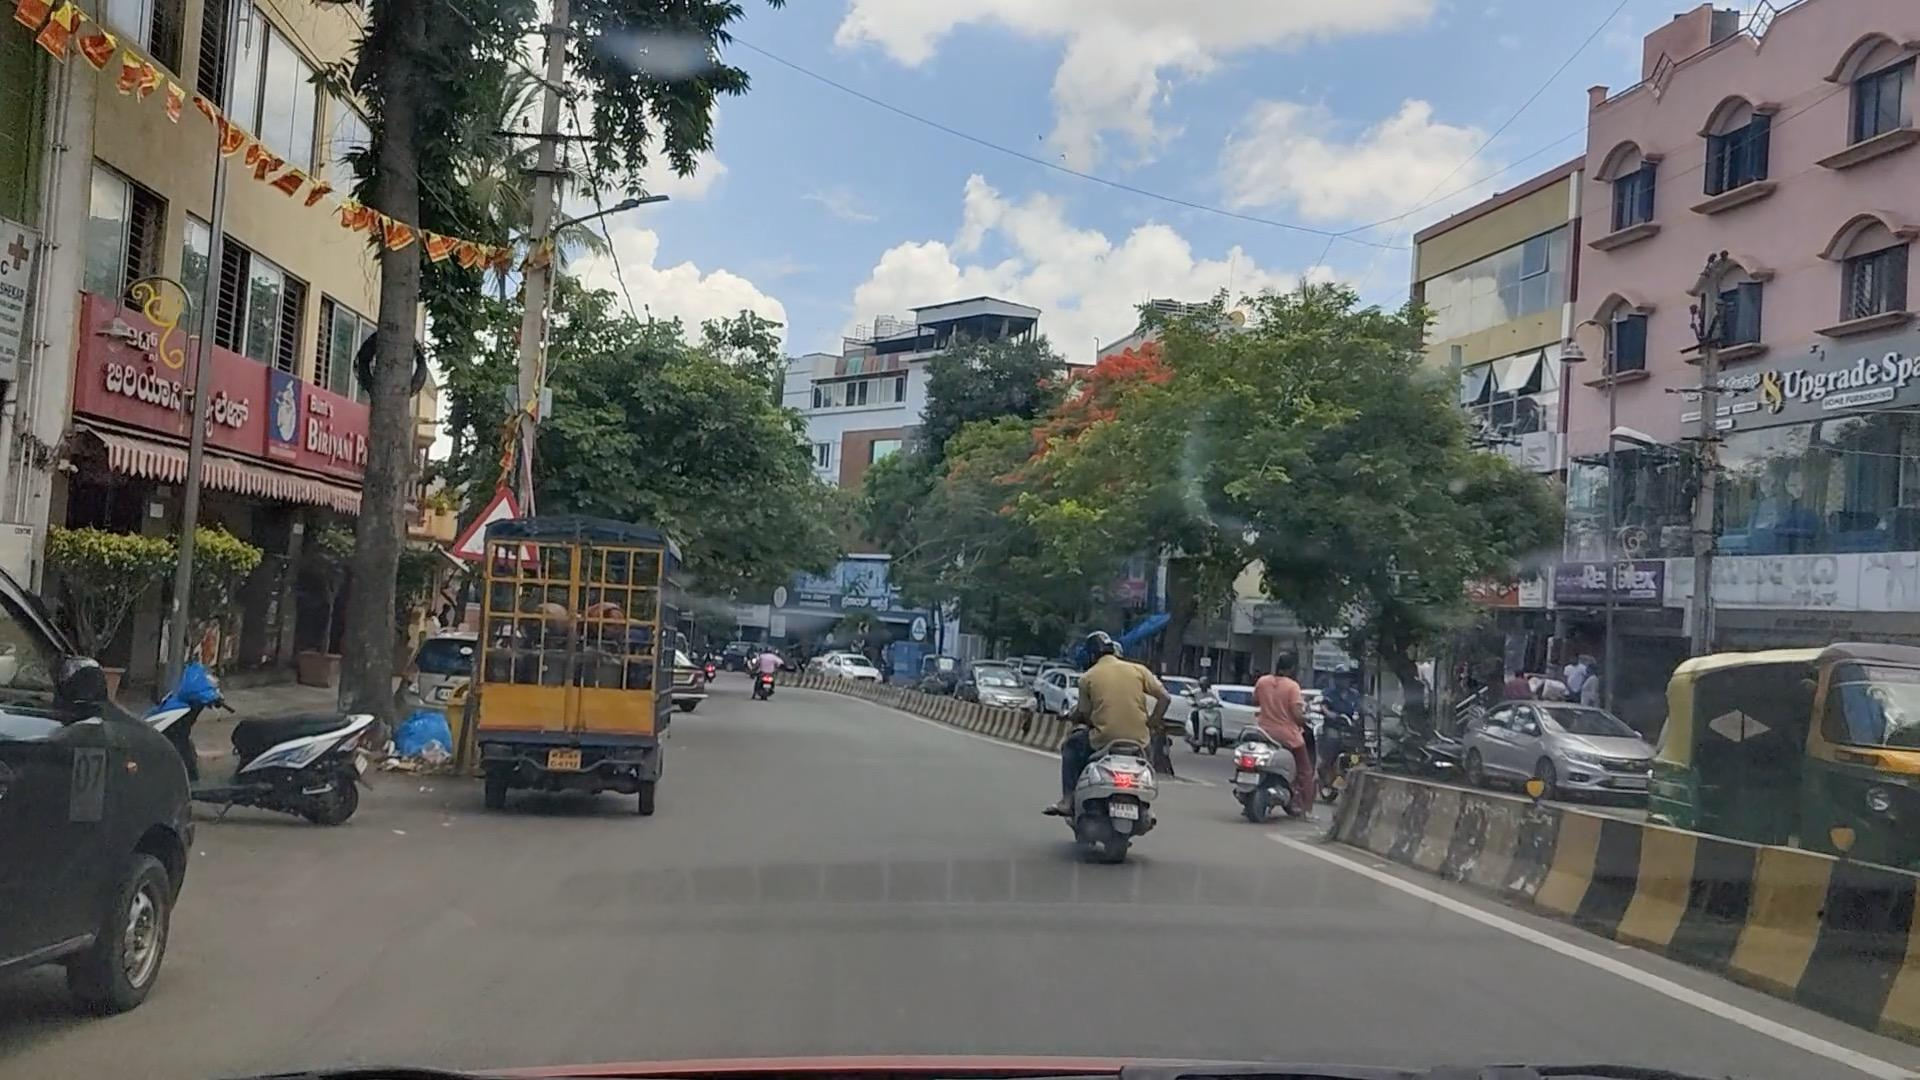LMV: (450, 537, 674, 814), (181, 650, 367, 873), (1047, 630, 1155, 857), (1233, 657, 1324, 824)
